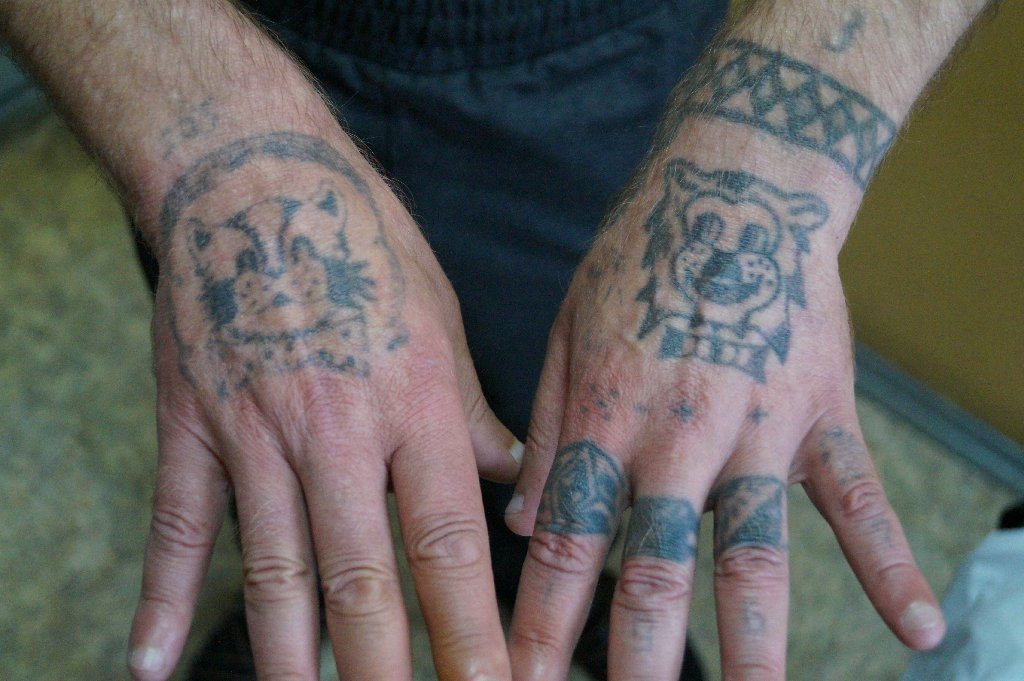tatu8_kot: (615, 128, 876, 398), (155, 178, 425, 393)
